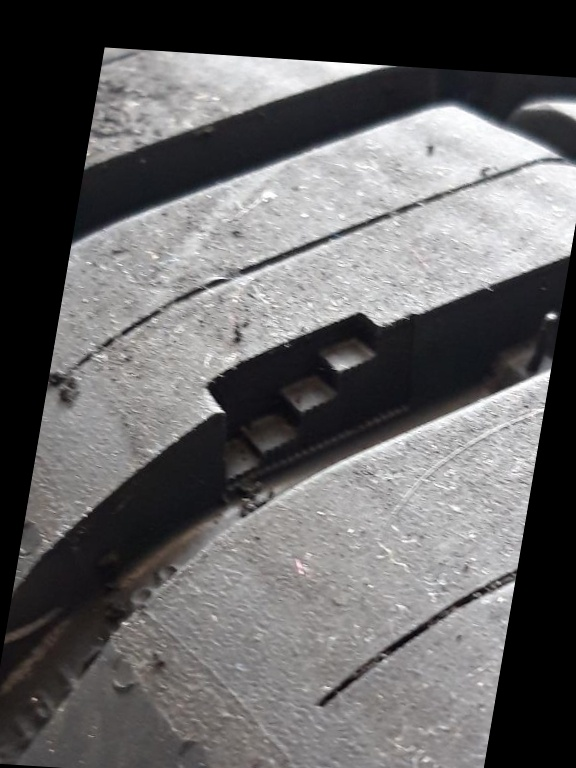temoin:95: (174, 284, 432, 524)
